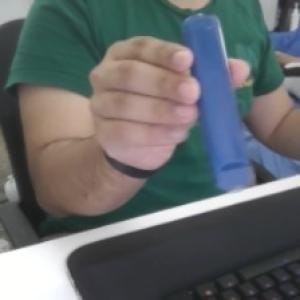Diamond-E-Ciggirate: (177, 10, 259, 196)
